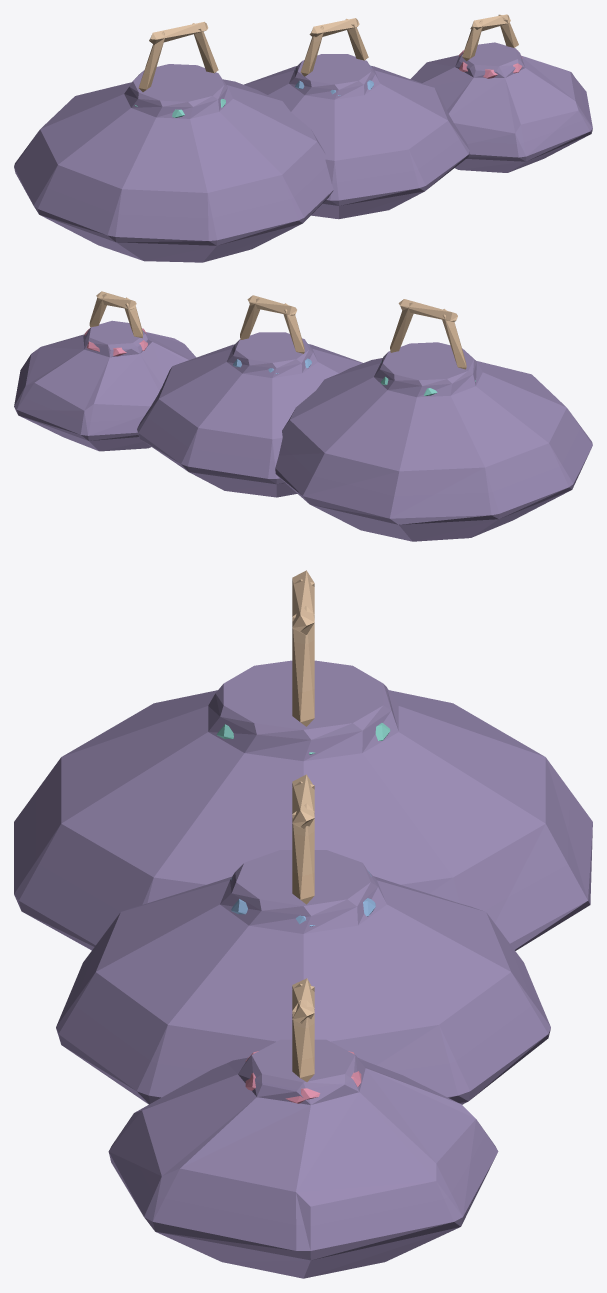
The model's file is gym-kettlebells.glb.
3 views of the same model, one above another, from view 1: azimuth 30°, elevation 25°; view 2: azimuth 150°, elevation 25°; view 3: azimuth 270°, elevation 25° (orthographic). The views are drawn at different scales.
Visible parts, largest first — view 1: kb_large, kb_medium, kb_small; view 2: kb_large, kb_medium, kb_small; view 3: kb_large, kb_medium, kb_small.
Boxes of the visible parts, box(x1,y1,x2,y2) form: kb_large: box(14, 21, 333, 262); kb_medium: box(244, 18, 469, 219); kb_small: box(410, 14, 592, 172); kb_large: box(275, 299, 592, 541); kb_medium: box(137, 295, 362, 497); kb_small: box(14, 291, 196, 451); kb_large: box(14, 570, 592, 950); kb_medium: box(56, 774, 550, 1104); kb_small: box(108, 978, 498, 1278).
Size of the model in its own units: 1.13 by 0.39 by 0.5628.
Materials: 1 (1 with a texture image).
